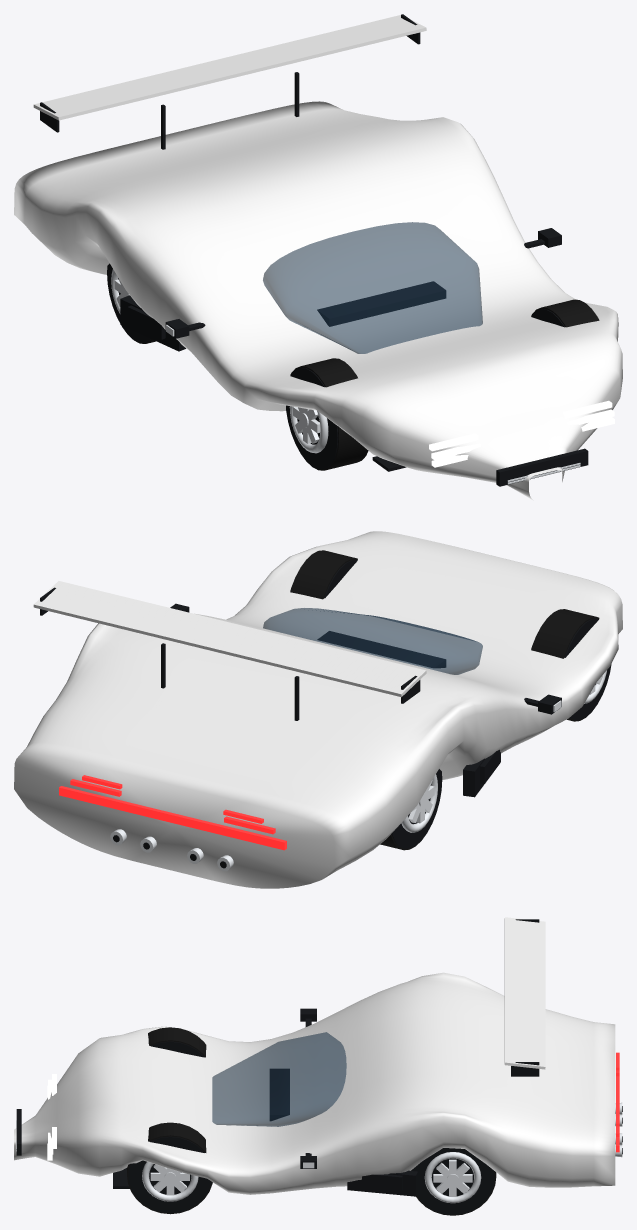
File: mcroar-pterodactyl.glb
3 views of the same model, one above another, from view 1: azimuth 30°, elevation 25°; view 2: azimuth 150°, elevation 25°; view 3: azimuth 270°, elevation 25° (orthographic). The views are drawn at different scales.
Parts seen in each view (by area): view 1: body, glass, chassis, wheel-front-left, wheel-front-right, wheel-back-left; view 2: body, chassis, glass, wheel-front-left, wheel-front-right, wheel-back-left; view 3: body, chassis, glass, wheel-front-right, wheel-back-right, wheel-front-left.
Boxes of the visible parts, box(x1,y1,x2,y2) form: body: box(14, 101, 622, 500); glass: box(263, 222, 482, 353); chassis: box(33, 14, 614, 486); wheel-front-left: box(286, 358, 368, 470); wheel-front-right: box(531, 299, 599, 327); wheel-back-left: box(107, 263, 155, 343); body: box(14, 531, 622, 888); chassis: box(33, 581, 561, 871); glass: box(263, 608, 482, 674); wheel-front-left: box(531, 609, 611, 721); wheel-front-right: box(290, 550, 357, 599); wheel-back-left: box(380, 769, 442, 850); body: box(14, 972, 615, 1194); chassis: box(16, 917, 622, 1196); glass: box(212, 1032, 346, 1126); wheel-front-right: box(127, 1122, 212, 1214); wheel-back-right: box(411, 1148, 496, 1215); wheel-front-left: box(148, 1027, 206, 1057).
Size of the model in its own units: 2.85 by 1.47 by 4.77.
